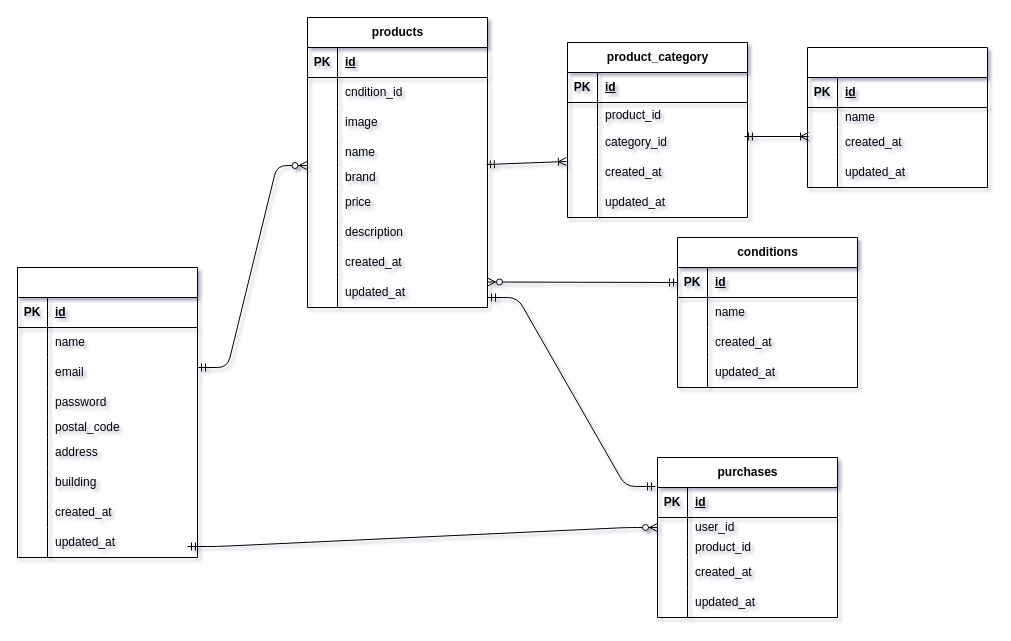
Image size: 1011x641. Some labels were removed from this diagram. Here are the shapes that lost their labels. From the top down, the box of each, then its label:
(806, 46, 988, 188): categories
(16, 266, 198, 558): users
